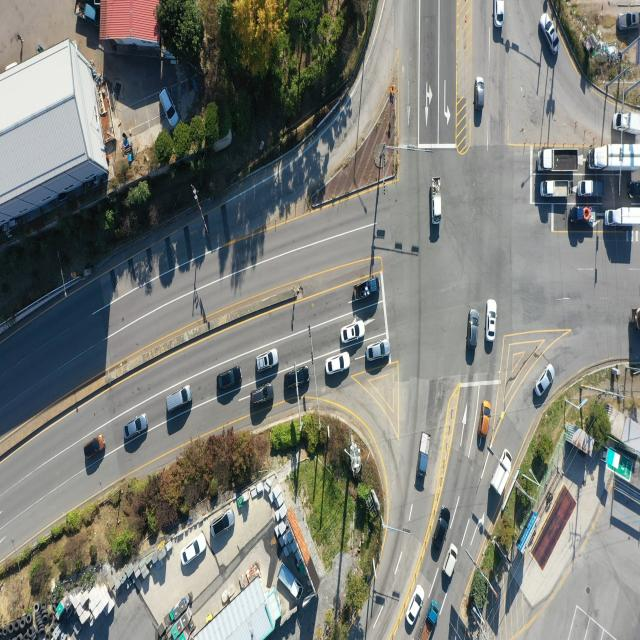car: (431, 511, 450, 563), (183, 536, 208, 568), (161, 86, 180, 128), (542, 11, 561, 52), (168, 384, 195, 411), (408, 586, 426, 626), (533, 362, 553, 397), (211, 508, 234, 537), (324, 350, 350, 374), (216, 368, 242, 392), (126, 414, 149, 440), (341, 320, 365, 343), (255, 348, 278, 372), (478, 401, 493, 437), (366, 340, 390, 362), (250, 385, 274, 407), (85, 437, 107, 461), (445, 542, 459, 578), (487, 299, 498, 341), (618, 11, 640, 29), (468, 310, 478, 349), (476, 76, 486, 108), (494, 0, 504, 27), (627, 181, 640, 199)
medium_truck: (592, 144, 640, 170), (541, 146, 581, 174), (607, 205, 640, 228)
small_truck: (491, 453, 513, 498), (415, 602, 440, 640), (278, 564, 303, 600), (540, 176, 570, 200), (353, 274, 378, 301), (614, 110, 640, 134), (418, 431, 430, 478), (579, 178, 606, 198), (75, 1, 97, 24), (431, 179, 441, 225), (569, 206, 594, 224)
